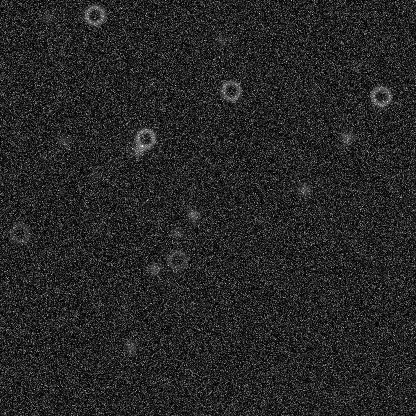Ring: (133, 126, 157, 150), (218, 78, 242, 102), (165, 248, 189, 272), (7, 221, 31, 245), (368, 84, 392, 108), (82, 3, 106, 27)
Spot: (213, 32, 229, 48), (168, 224, 184, 240), (296, 181, 312, 197), (122, 338, 138, 354), (183, 297, 199, 313), (184, 206, 200, 222), (55, 132, 71, 148), (40, 9, 56, 25), (146, 260, 162, 276), (86, 167, 102, 183), (339, 129, 355, 145), (129, 142, 145, 158)
